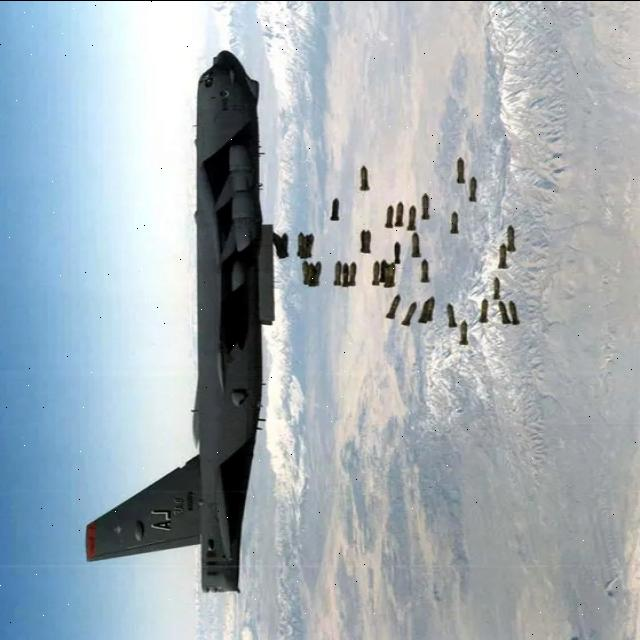B1: (70, 43, 377, 640)
